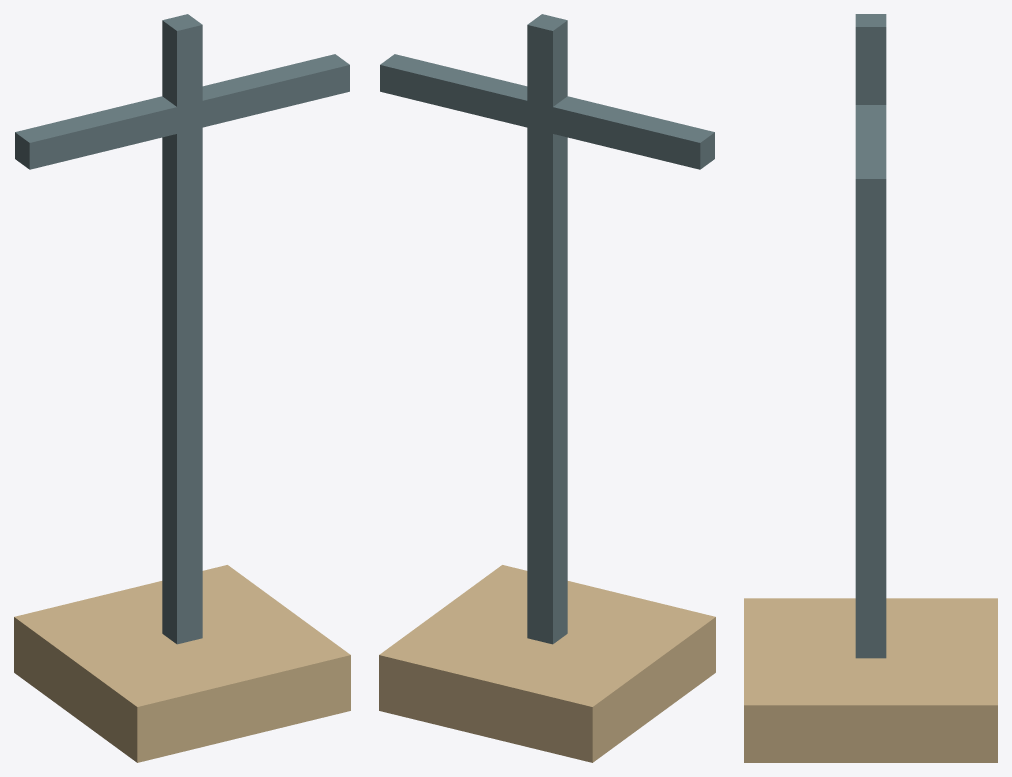
File: Weather-station.glb
3 views of the same model, side by side, from view 1: azimuth 30°, elevation 25°; view 2: azimuth 150°, elevation 25°; view 3: azimuth 270°, elevation 25° (orthographic). The views are drawn at different scales.
Parts seen in each view (by area): view 1: weather-station-static-weather-stone, weather-station-static-weather-metal; view 2: weather-station-static-weather-stone, weather-station-static-weather-metal; view 3: weather-station-static-weather-stone, weather-station-static-weather-metal.
Part boxes in pixels (<box>): weather-station-static-weather-stone: <box>14,565,350,762</box>; weather-station-static-weather-metal: <box>15,14,349,644</box>; weather-station-static-weather-stone: <box>379,565,715,762</box>; weather-station-static-weather-metal: <box>380,14,714,644</box>; weather-station-static-weather-stone: <box>744,598,997,762</box>; weather-station-static-weather-metal: <box>855,14,886,658</box>.
Bounding box in the file's own units: 1.5 × 3 × 1.
